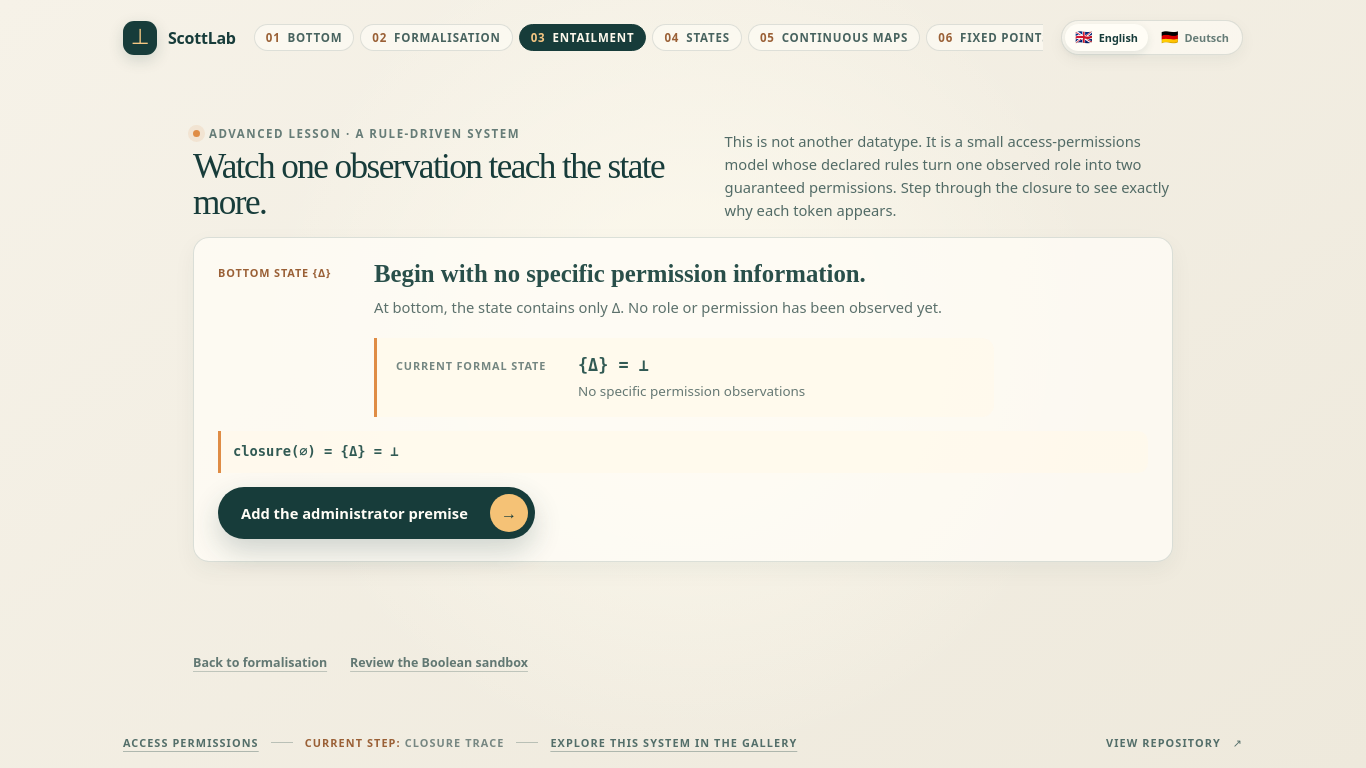
Test case: ScottLab introduction and bottom-first lesson › returns a direct entailment link to a valid formalisation
This screenshot has width=1366, height=768.
Click the button "Back to formalisation" at (264, 662), box [193, 648, 335, 676]
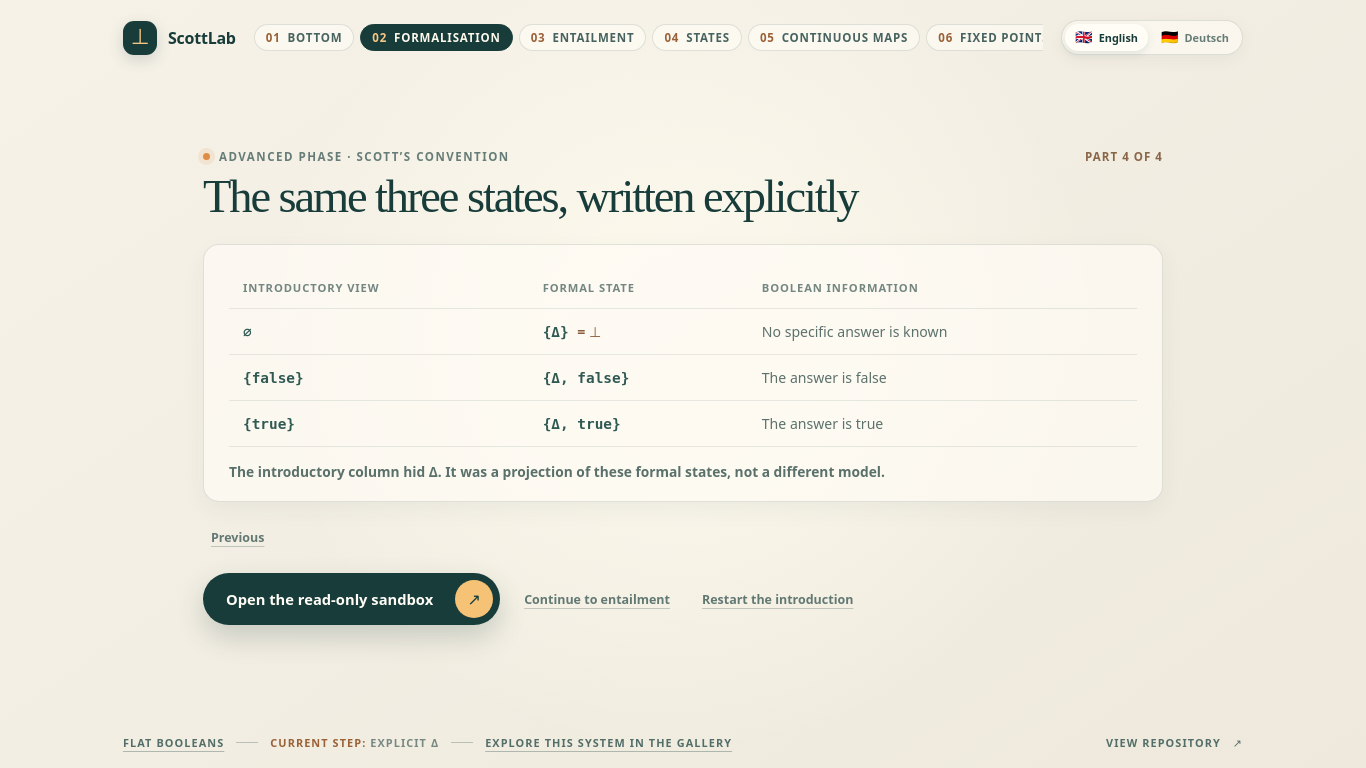
Now the table is shown, box [229, 266, 1137, 446]
